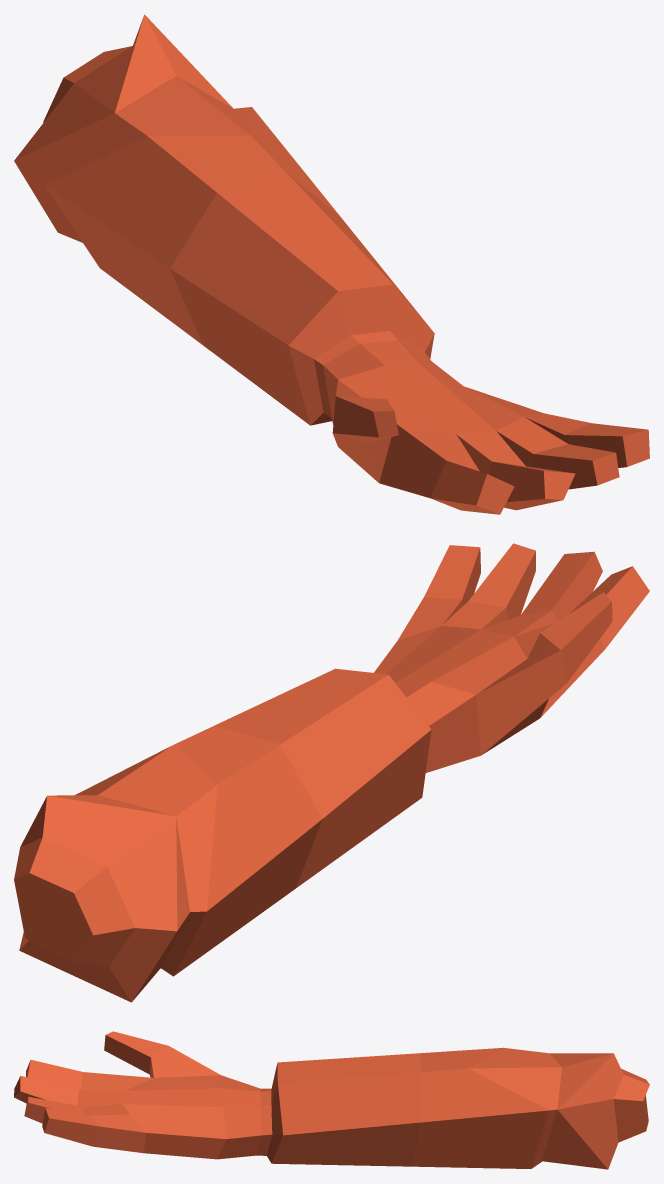
File: hand-torn.fbx
3 renders of one model, top to bottom at view 1: azimuth 30°, elevation 25°; view 2: azimuth 150°, elevation 25°; view 3: azimuth 270°, elevation 25°, orthographic. The views are drawn at different scales.
Visible parts, largest first — view 1: hand-torn; view 2: hand-torn; view 3: hand-torn.
Boxes of the visible parts, box(x1,y1,x2,y2) form: hand-torn: box(14, 14, 649, 514); hand-torn: box(14, 543, 649, 1002); hand-torn: box(14, 1031, 649, 1169).
Bounding box in the file's own units: 0.1411 × 0.1144 × 0.5398.
